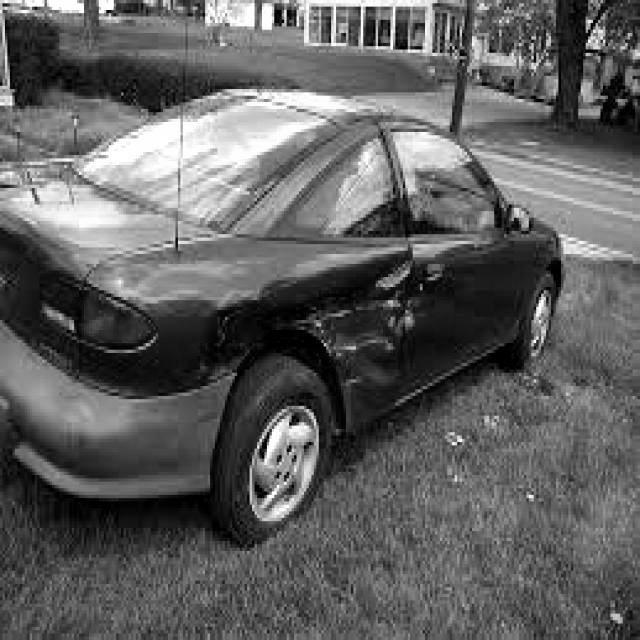quaterpanel-dent: (193, 252, 405, 397)
